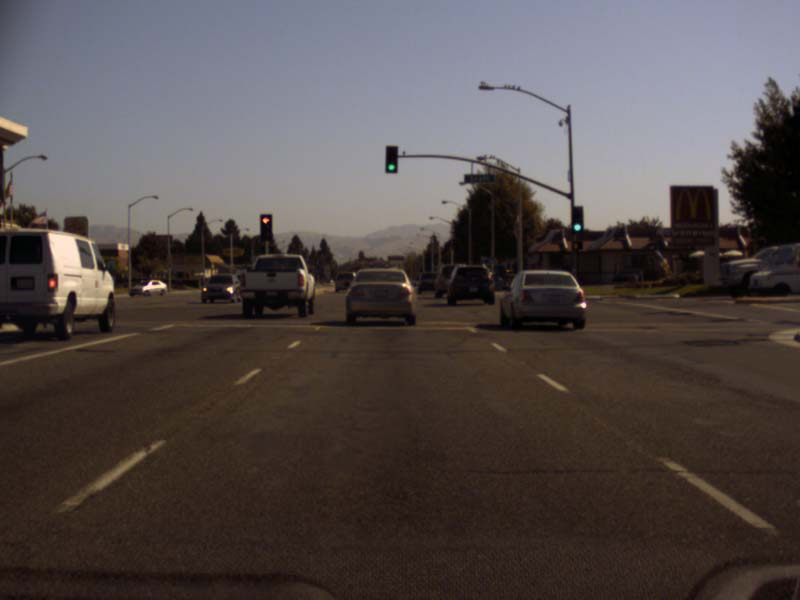Green: (385, 145, 398, 173), (571, 205, 583, 235)
Red: (260, 213, 271, 241)
